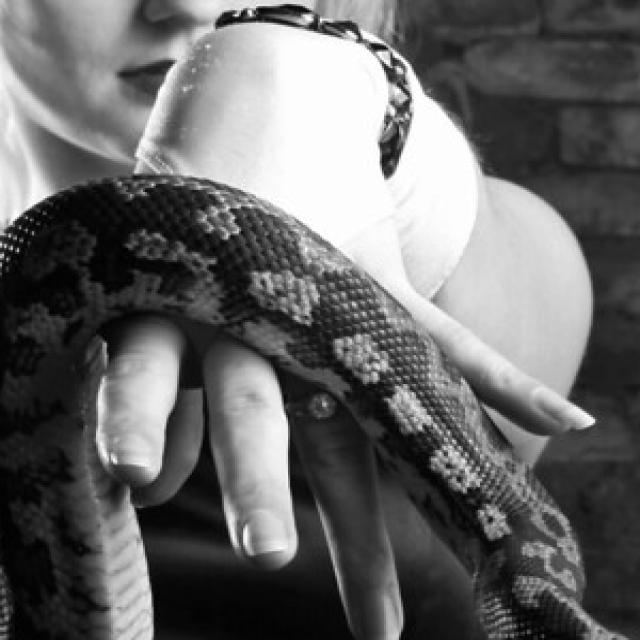Snake: (0, 170, 640, 640)
